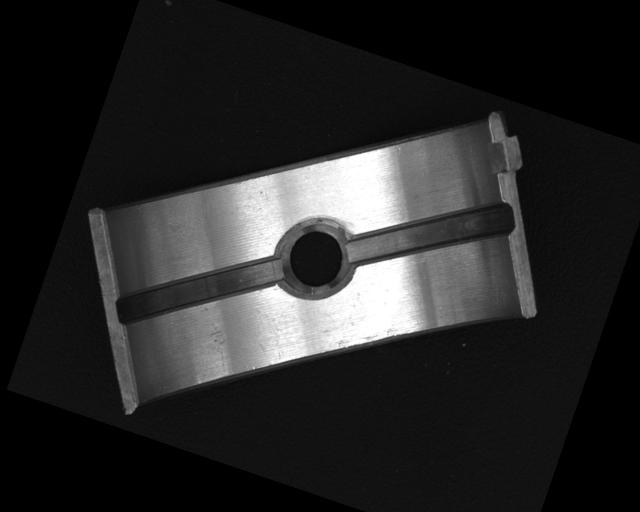gap: (111, 214, 289, 366), (344, 160, 518, 308)
hole: (269, 212, 360, 305)
